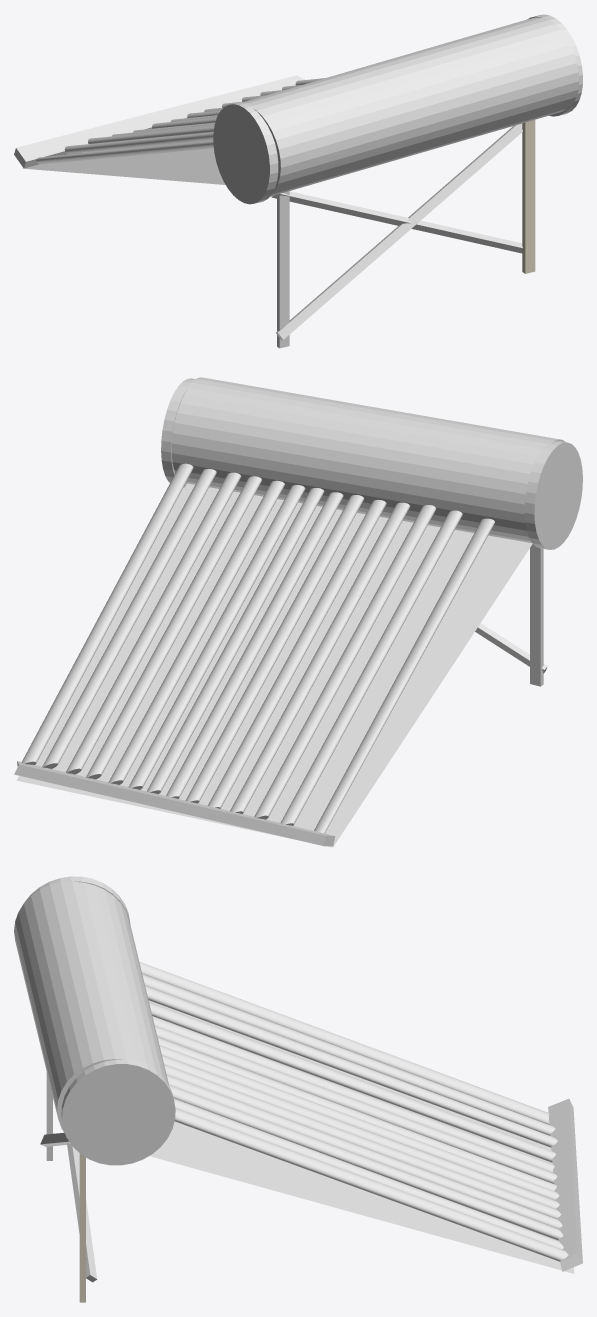
File: Solar Heater3.gltf
The picture shows the model from 3 angles, top to bottom: view 1: azimuth 30°, elevation 25°; view 2: azimuth 150°, elevation 25°; view 3: azimuth 270°, elevation 25°; orthographic projection. The views are drawn at different scales.
Parts seen in each view (by area): view 1: Cube.001; view 2: Cube.001; view 3: Cube.001.
Boxes of the visible parts, x1,y1,x2,y2 form: Cube.001: (14,14,582,348); Cube.001: (14,377,582,847); Cube.001: (14,876,582,1302).
Size of the model in its own units: 8.03 by 5.37 by 10.42.
